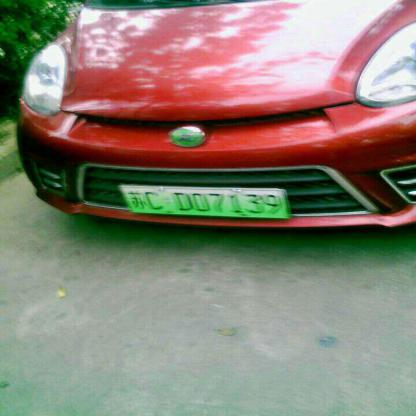lp: (120, 186, 291, 218)
